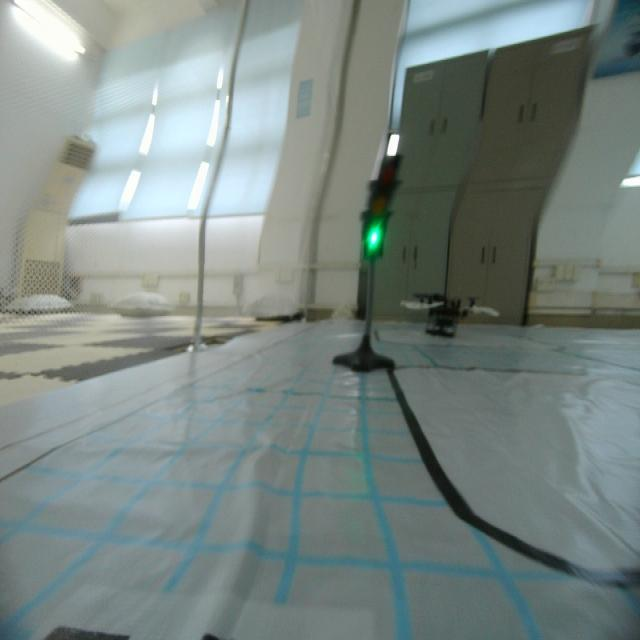green: (359, 150, 404, 268)
